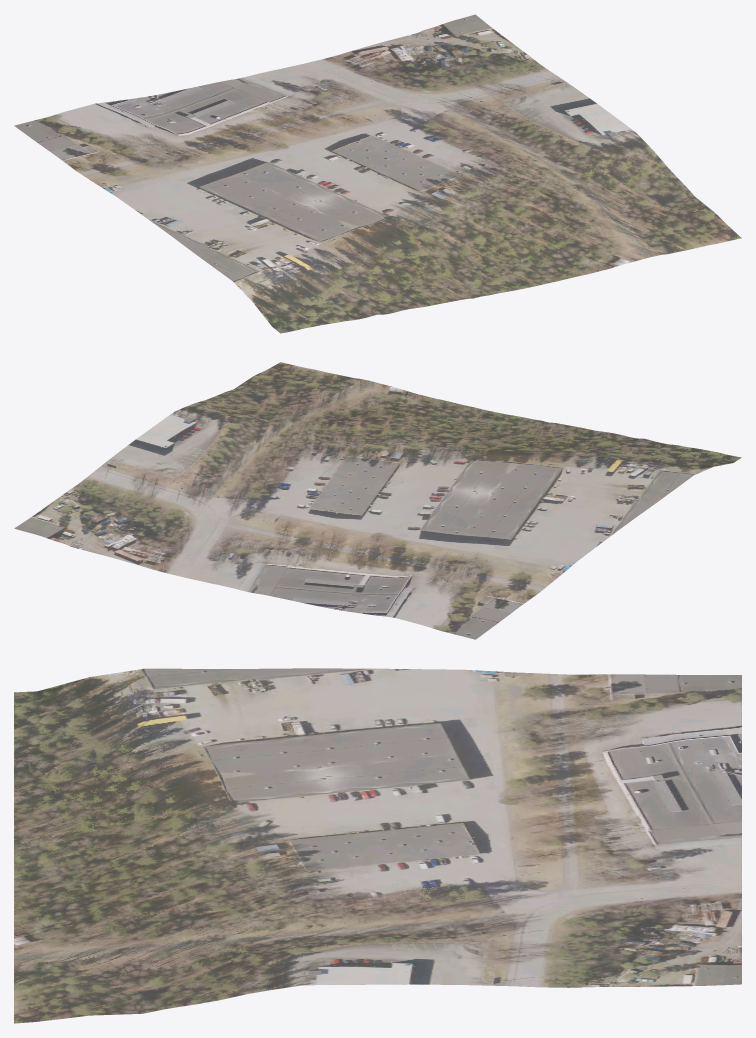
File: CM_Terrain_24492916_6816312.fbx
3 views of the same model, one above another, from view 1: azimuth 30°, elevation 25°; view 2: azimuth 150°, elevation 25°; view 3: azimuth 270°, elevation 25° (orthographic). The views are drawn at different scales.
Parts seen in each view (by area): view 1: CM_Terrain_24492916_6816312_LOD0; view 2: CM_Terrain_24492916_6816312_LOD0; view 3: CM_Terrain_24492916_6816312_LOD0.
Part boxes in pixels (<box>): CM_Terrain_24492916_6816312_LOD0: <box>14,14,741,333</box>; CM_Terrain_24492916_6816312_LOD0: <box>14,362,741,639</box>; CM_Terrain_24492916_6816312_LOD0: <box>14,668,741,1023</box>.
Size of what is drawn, in the model's own units: 205 by 14.78 by 205.
